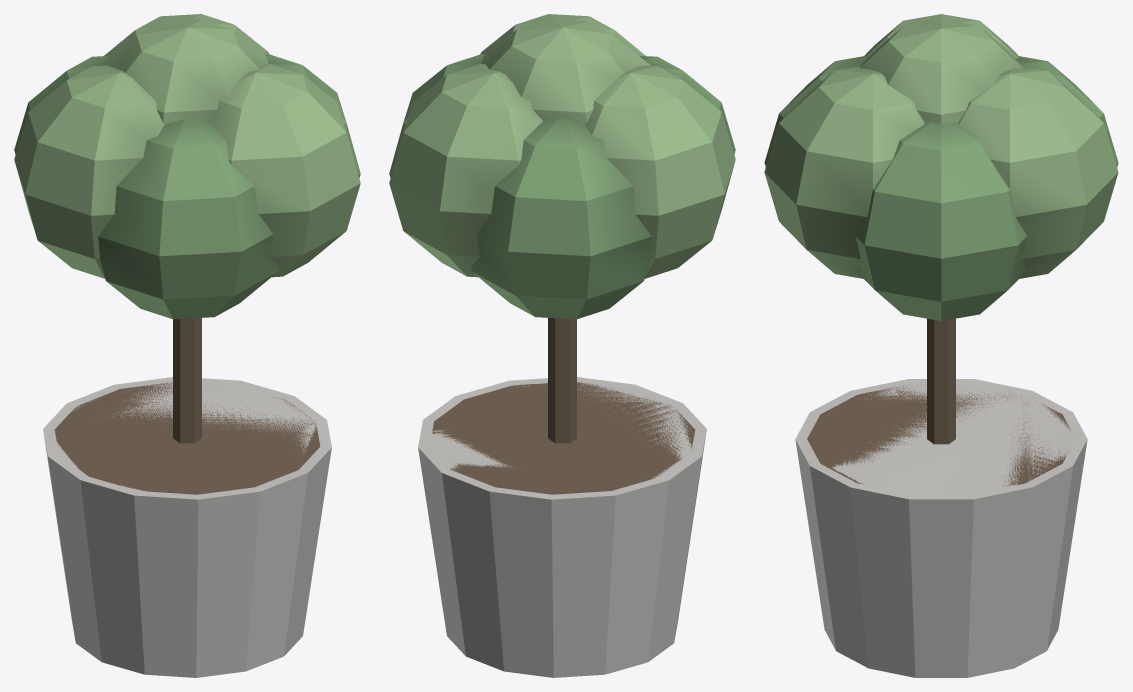
The model's file is furn_plant_pot__white.glb.
The picture shows the model from 3 angles, left to right: view 1: azimuth 30°, elevation 25°; view 2: azimuth 150°, elevation 25°; view 3: azimuth 270°, elevation 25°; orthographic projection.
Size of the model in its own units: 0.642 by 1.13 by 0.6058.
